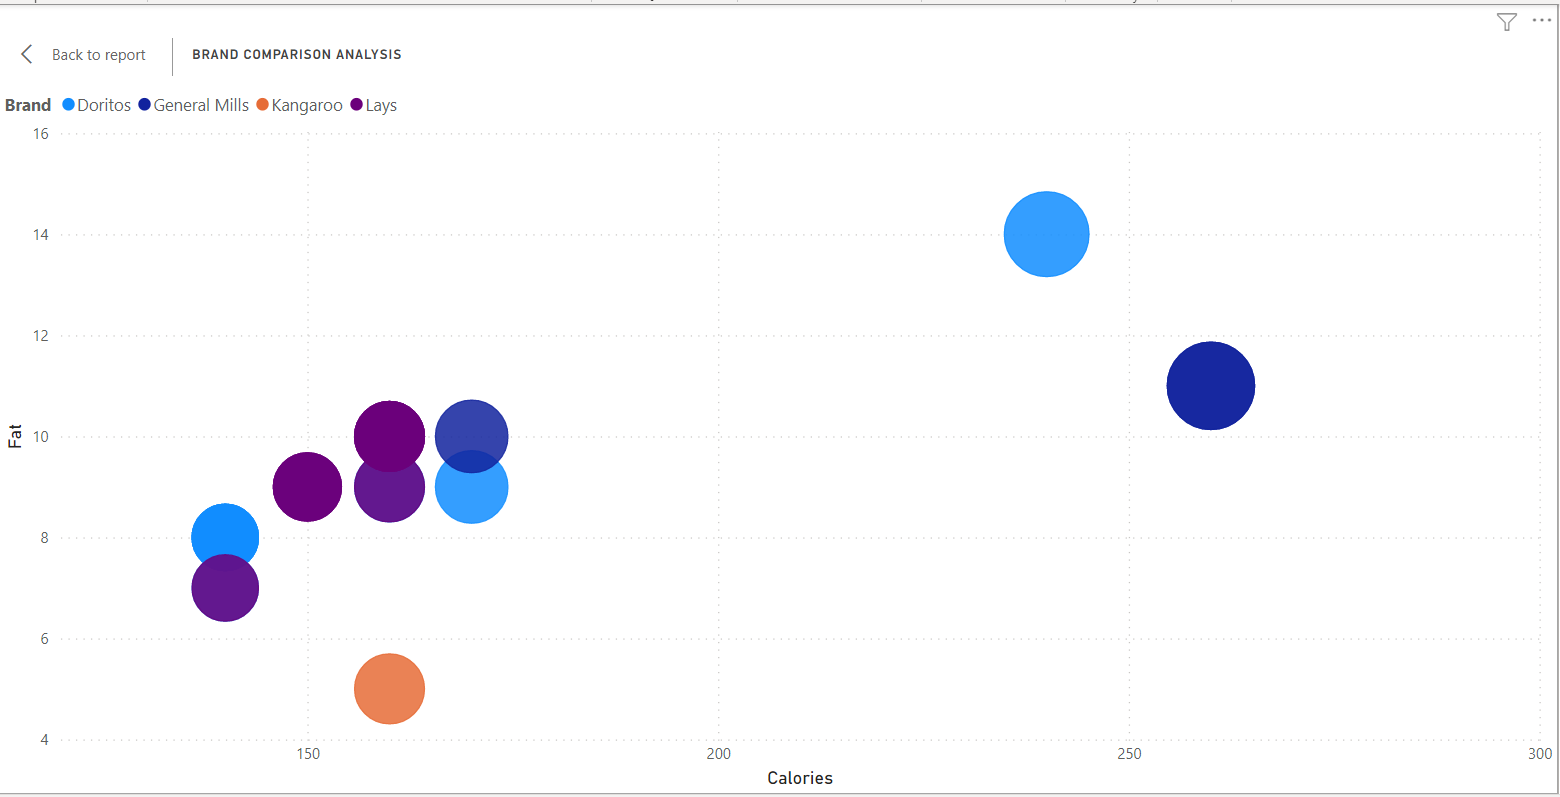

What the dashboard file says about the page in this screenshot:
{"tool":"powerbi","page":{"name":"Page 2","canvas":[1280,720],"ordinal":1},"visuals":[{"type":"scatterChart","title":"Brand Comparison Analysis","fields":{"X":["Sum(chips.Calories)"],"Y":["Sum(chips.Fat)"],"Category":["chips.Name"],"Size":["Sum(chips.Calories)"],"Series":["chips.Brand"]},"box":[0,0,1280,697.8],"z":0}]}

Visuals, with their boxes on the page's 1280x720 design canvas (x1, y1, x2, y2). These are canvas units, not pixel positions in the 1560x797 screenshot, which may show the page scaled, cropped or inside an application window:
"Brand Comparison Analysis" scatterChart: 0/0/1280/698
